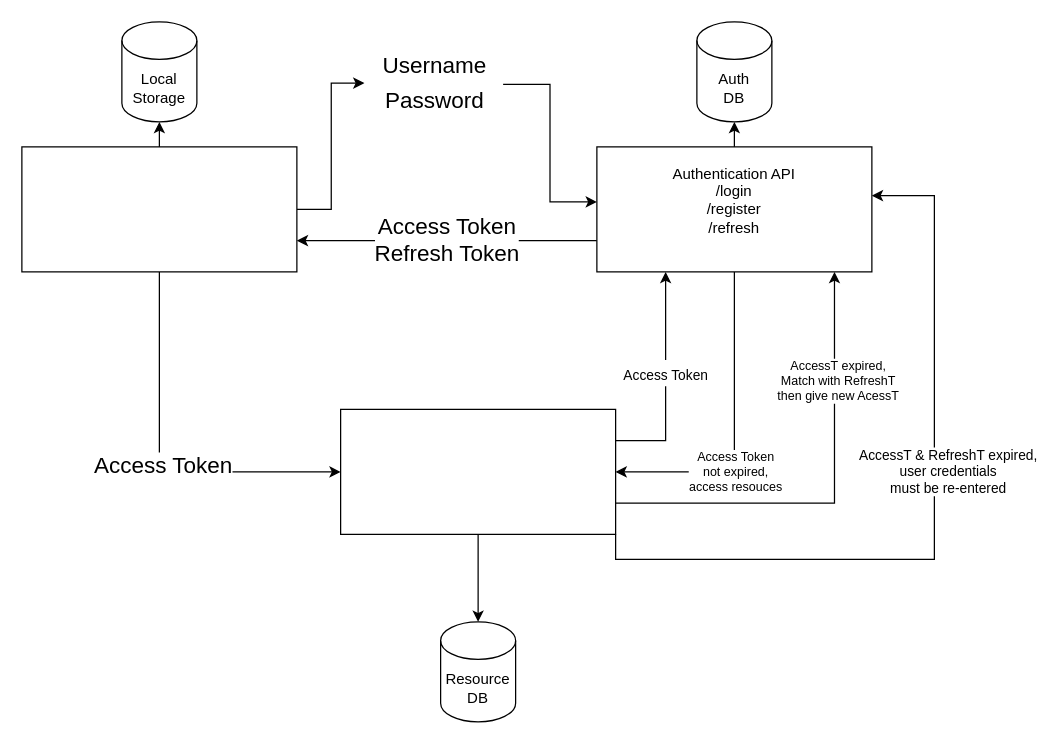
This 1059x744 diagram has some shape labels left out. The centre of each missing label's shape, as x and y in pixels:
Resources API: (x=477, y=471)
Web Application: (x=159, y=209)
